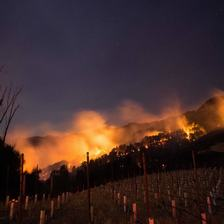fire: (15, 125, 208, 164)
